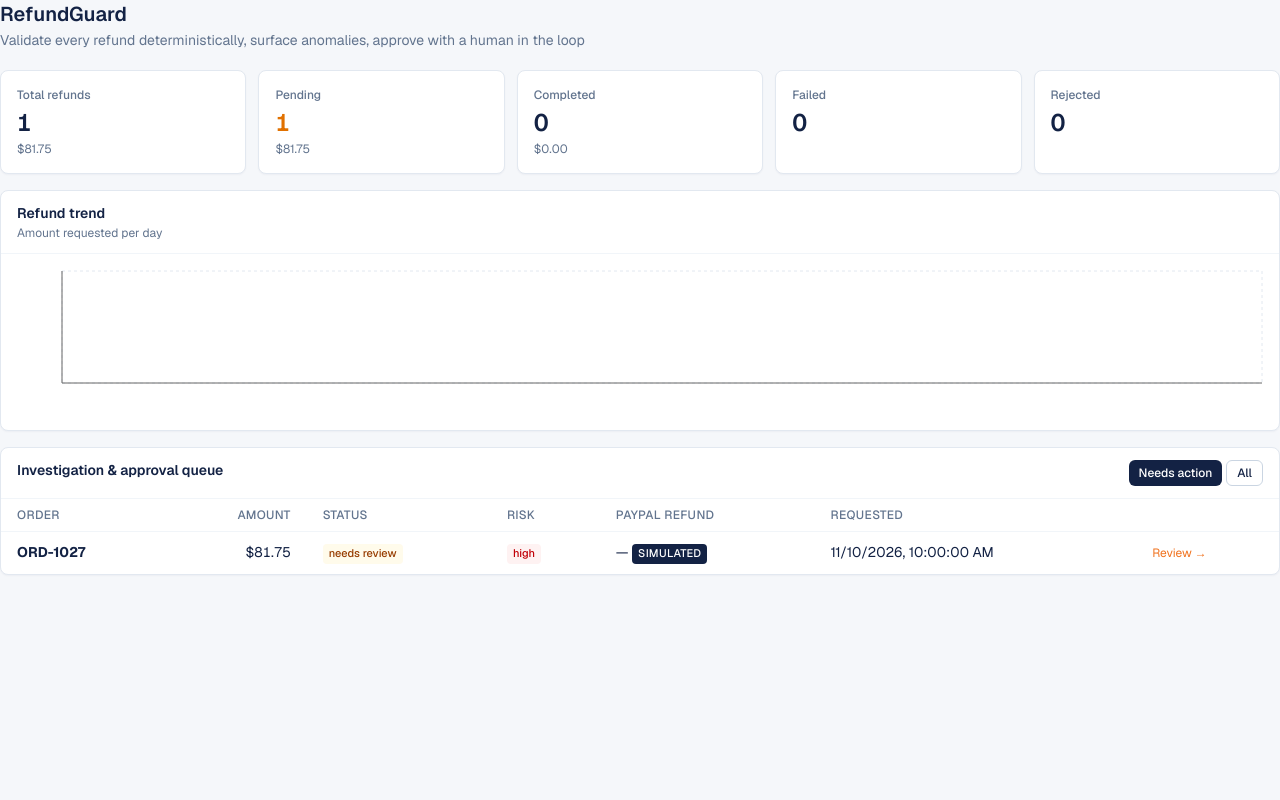
refund investigation › shows the investigation report and requires an explicit confirmation before approving
Later steps or results of the test are not shown.
Click the text "ORD-1027".
click(51, 552)  # box [17,543,86,561]
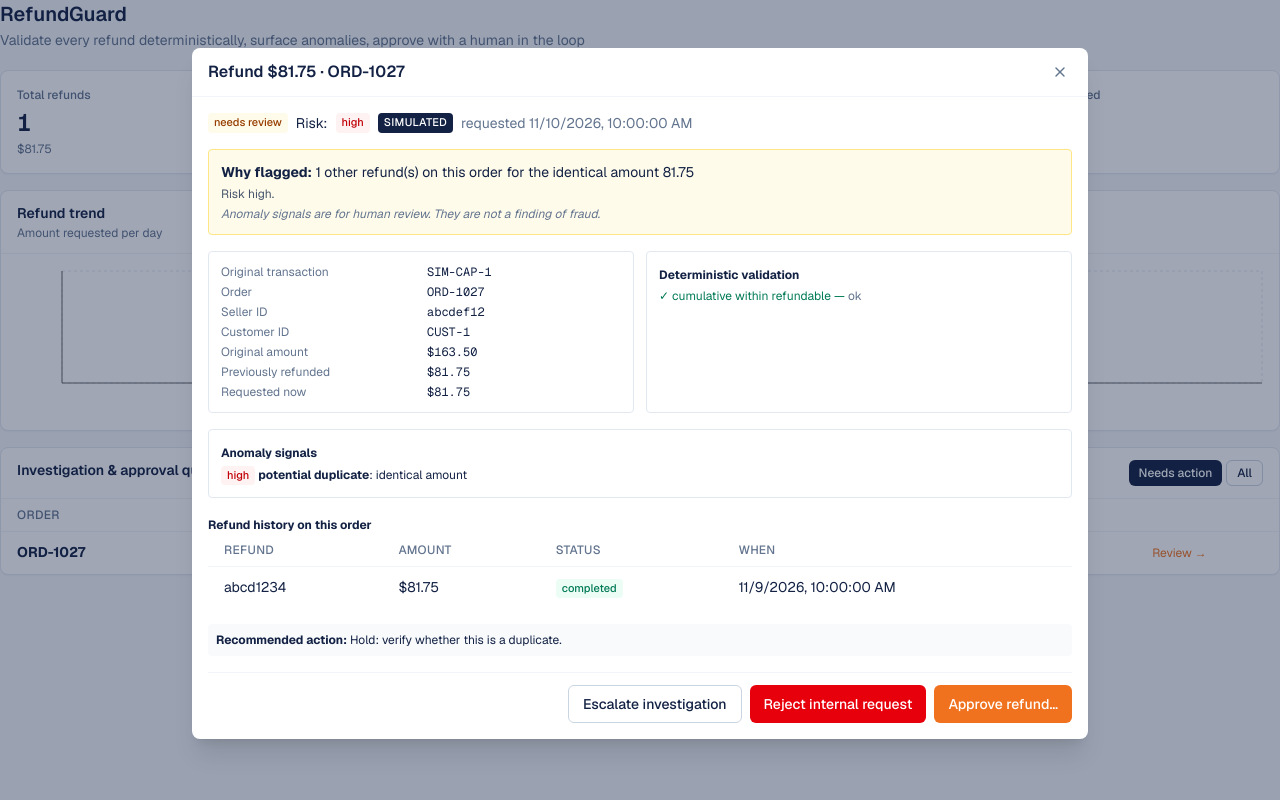
Expected: the text "potential duplicate" is shown, [258,467,369,483]
Expected: the text "not a finding of fraud" is shown, [221,206,600,222]
Expected: the text "Hold: verify" is shown, [350,632,562,648]
